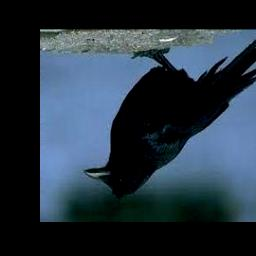Crow: (84, 34, 256, 198)
